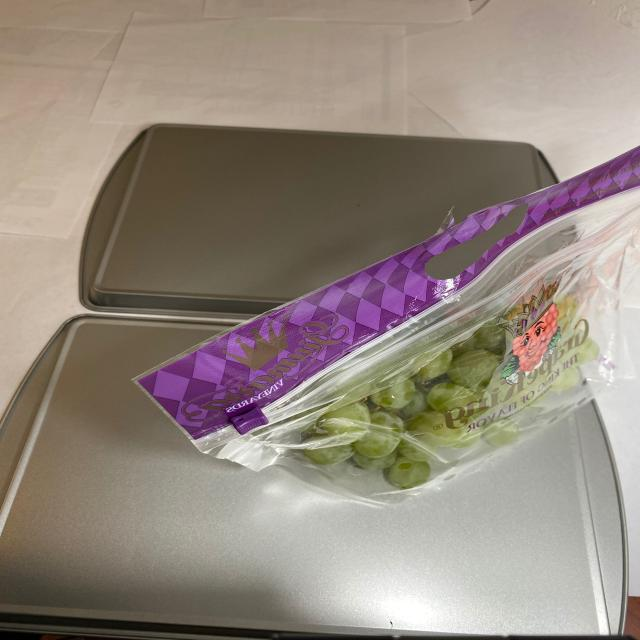grapes: (280, 297, 598, 493)
